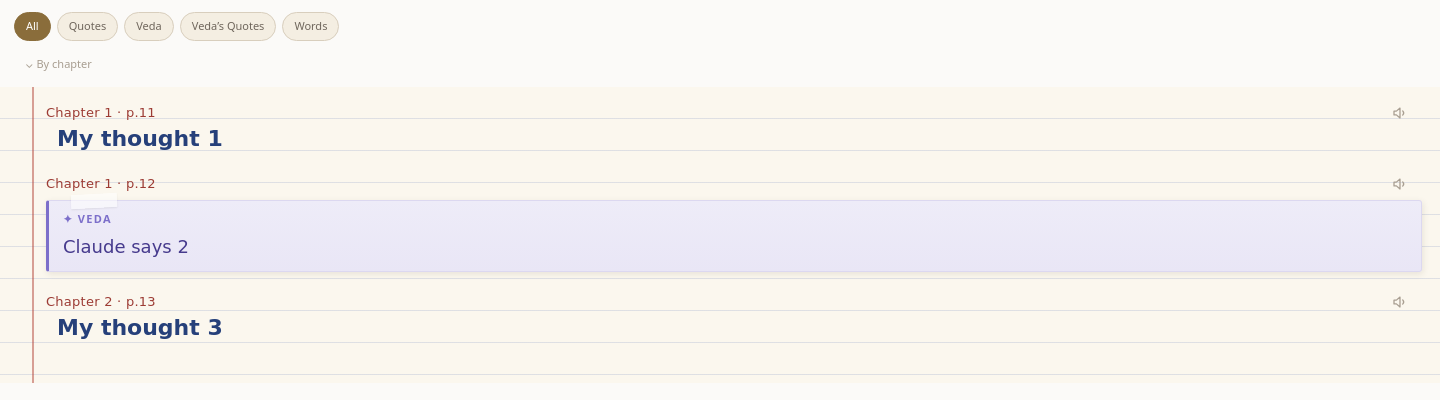
Scenario: the notes tab › narrows to one author
Click the radio button labelled "Veda" at (149, 26), box left=124, top=12, right=174, bottom=40
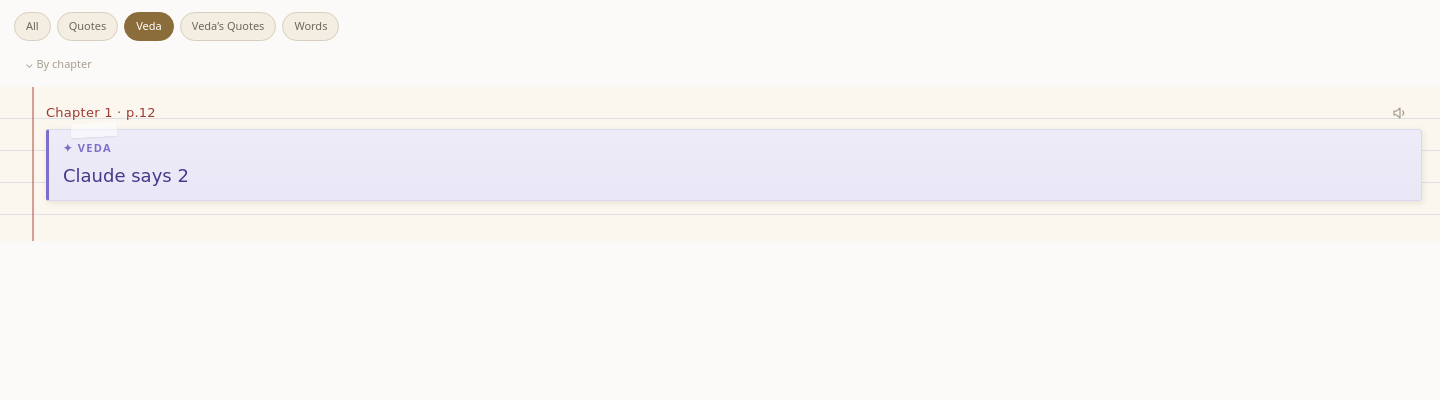
Expected: the text "Claude says 2" is shown, left=63, top=164, right=189, bottom=186
Result: the button "My thought 1" is gone
Click the radio button labelled "Quotes" at (87, 26), box left=57, top=12, right=118, bottom=40
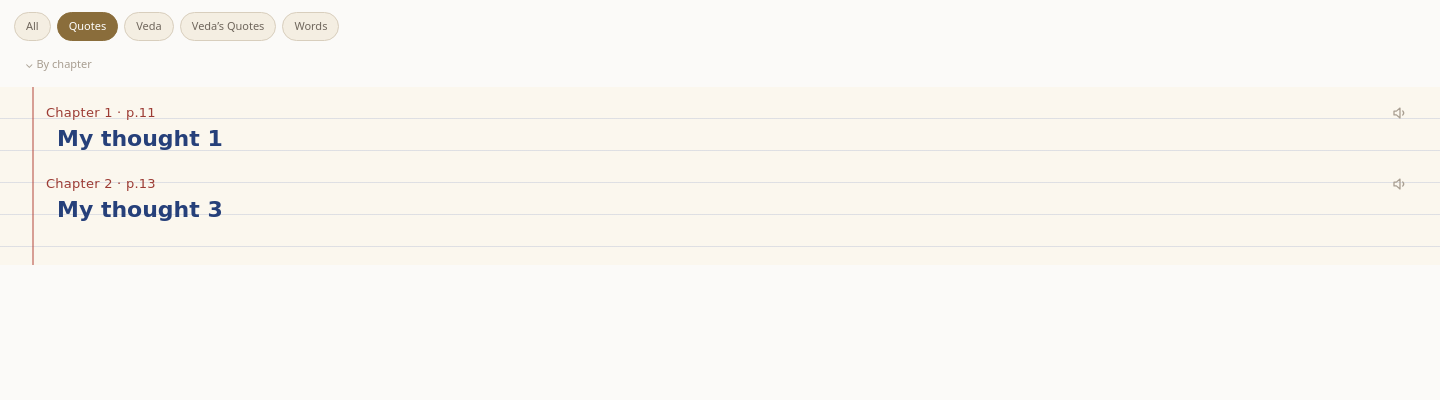
Result: the button "My thought 1" is shown at left=46, top=123, right=1422, bottom=154
Result: the button "Claude says 2" is gone
